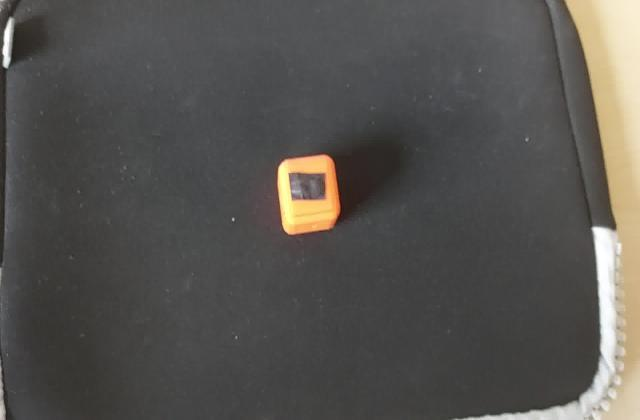black: (286, 168, 329, 203)
sticker: (274, 151, 343, 238)
